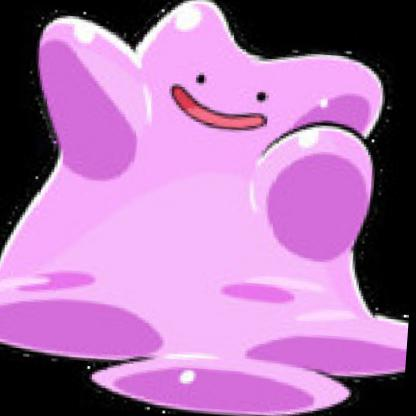Ditto: (1, 10, 416, 393)
